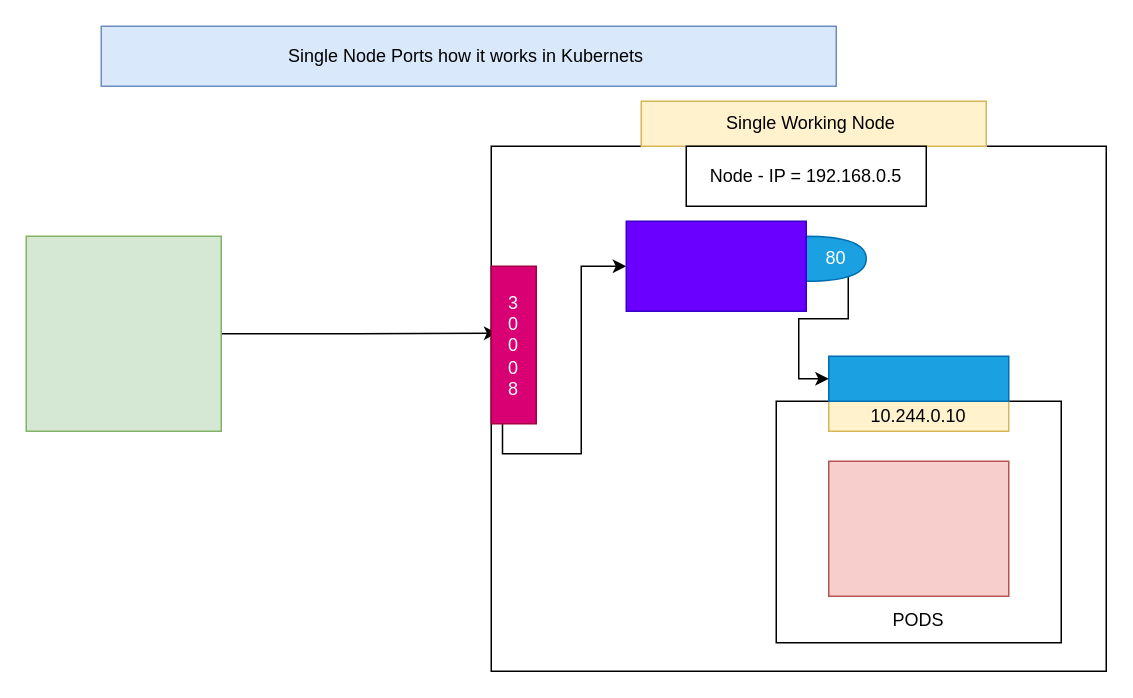
Image size: 1133x698. Some labels were removed from this diagram. Each missing label, with the centre of its shape:
"Containers" belongs at pixel 918 528.
"Services (its like an Objects, it create the Virutal /Cluster IP)" belongs at pixel 715 265.
"Target Port = 80" belongs at pixel 918 378.
"User Communication" belongs at pixel 123 333.
